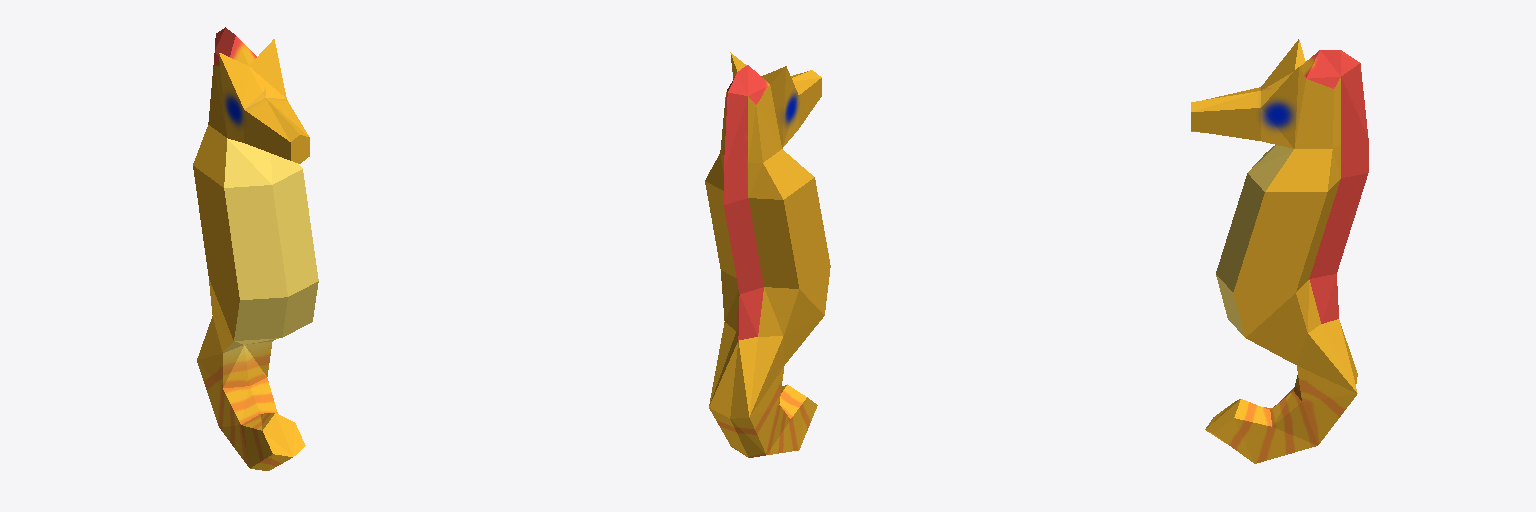
The picture shows the model from 3 angles: view 1: azimuth 30°, elevation 25°; view 2: azimuth 150°, elevation 25°; view 3: azimuth 270°, elevation 25°; orthographic projection.
Visible parts, largest first — view 1: Cube; view 2: Cube; view 3: Cube.
Boxes of the visible parts, box(x1,y1,x2,y2) form: Cube: box(193, 27, 318, 470); Cube: box(705, 52, 830, 457); Cube: box(1191, 39, 1368, 463).
Bounding box in the file's own units: 1.32 × 6.6 × 2.57.
Materials: 1 (1 with a texture image).